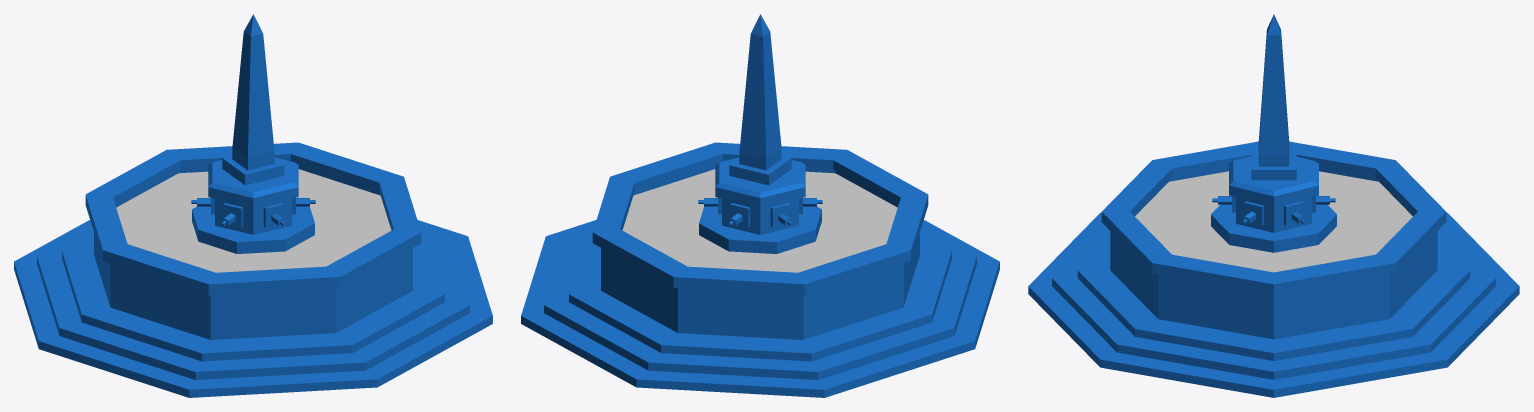
Rendered from SM_fountain.fbx.
The picture shows the model from 3 angles, left to right: view 1: azimuth 30°, elevation 25°; view 2: azimuth 150°, elevation 25°; view 3: azimuth 270°, elevation 25°; orthographic projection.
Visible parts, largest first — view 1: Cylinder_33; view 2: Cylinder_33; view 3: Cylinder_33.
Part boxes in pixels (bbox=[...]): Cylinder_33: bbox=[14, 14, 492, 397]; Cylinder_33: bbox=[521, 14, 999, 397]; Cylinder_33: bbox=[1028, 14, 1519, 397].
Size of the model in its own units: 501 by 315 by 501.
